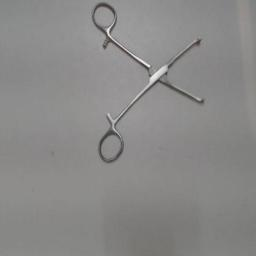Allis Tissue Forceps: (91, 0, 209, 164)
